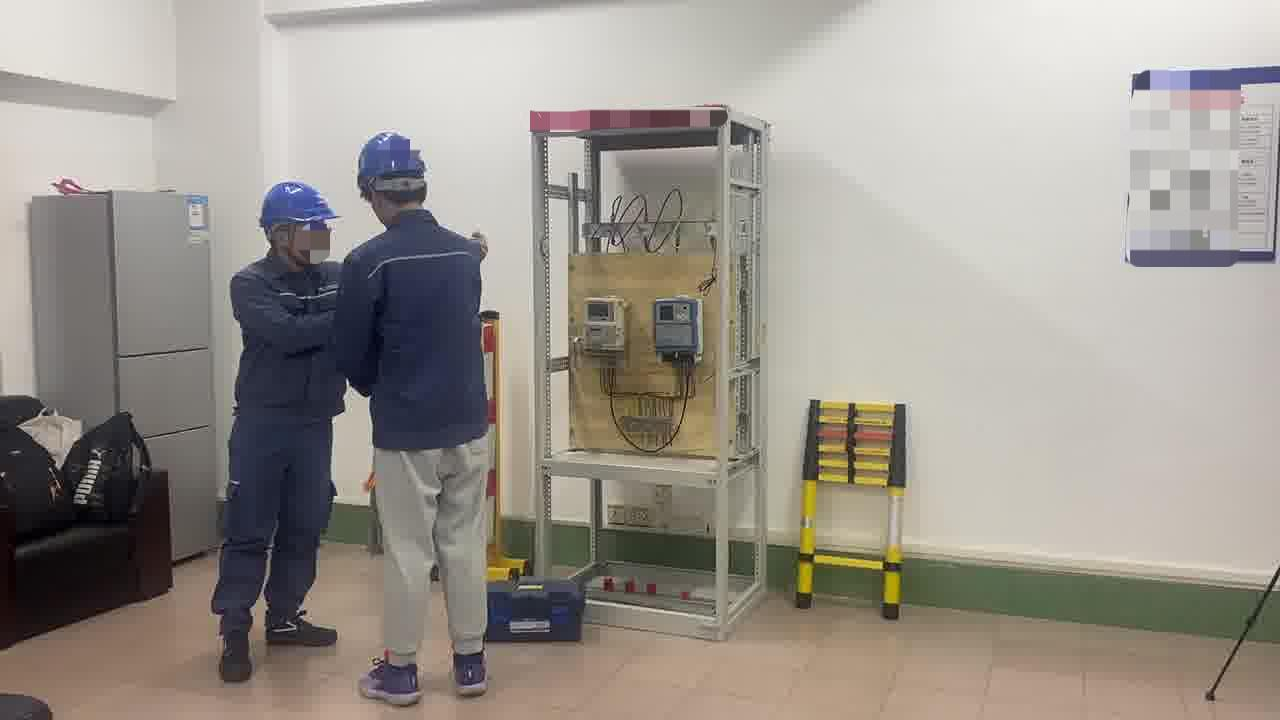halt: (356, 134, 432, 226), (261, 184, 341, 267)
inear: (269, 224, 302, 257)
